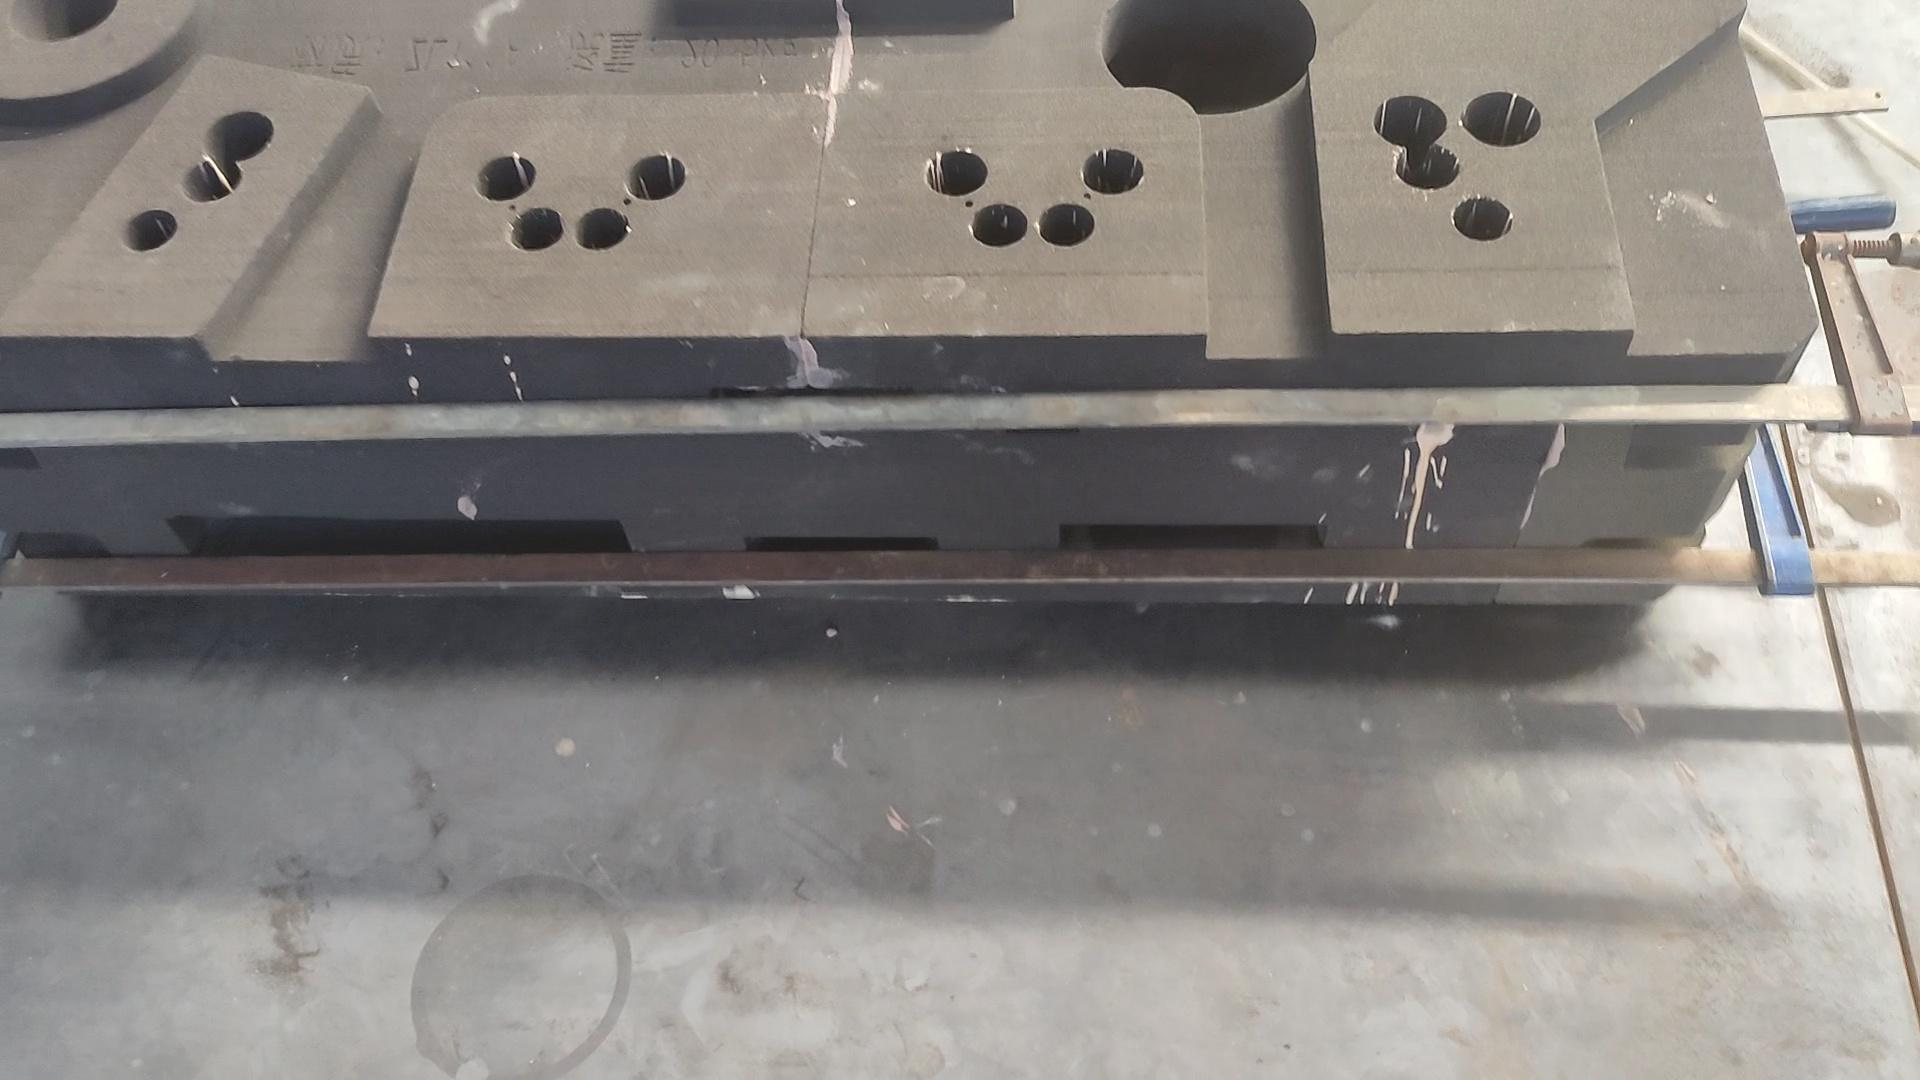pouring hole: (1, 1, 117, 41)
